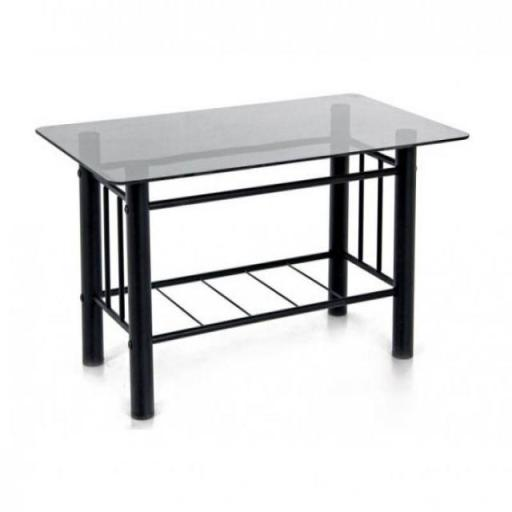table: (27, 90, 475, 423)
